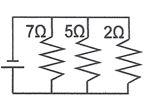Battery: (2, 52, 23, 74)
